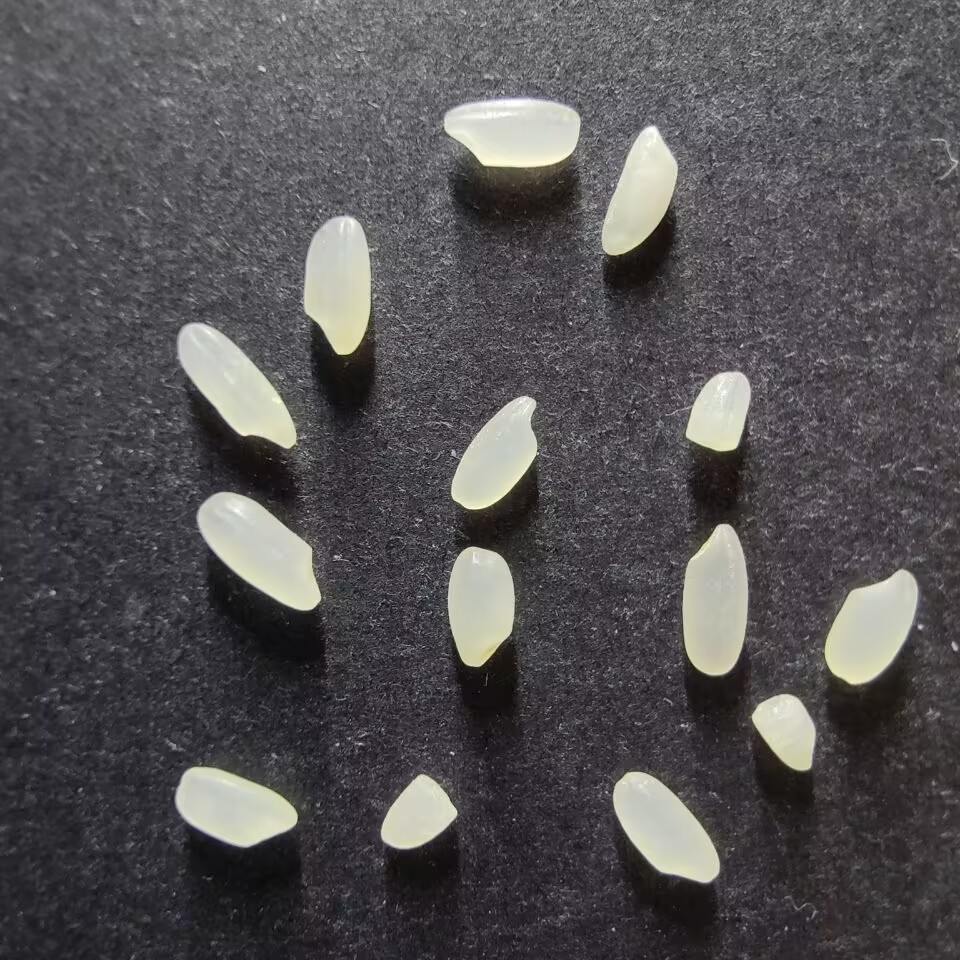broken: (379, 772, 459, 852), (683, 369, 753, 452), (749, 692, 818, 773)
rice: (175, 321, 299, 450), (195, 490, 323, 611), (610, 769, 722, 885), (822, 567, 920, 685), (679, 522, 749, 677), (449, 394, 540, 510), (600, 123, 678, 257), (173, 765, 298, 848), (301, 214, 372, 356), (441, 97, 581, 168), (445, 545, 516, 668)
